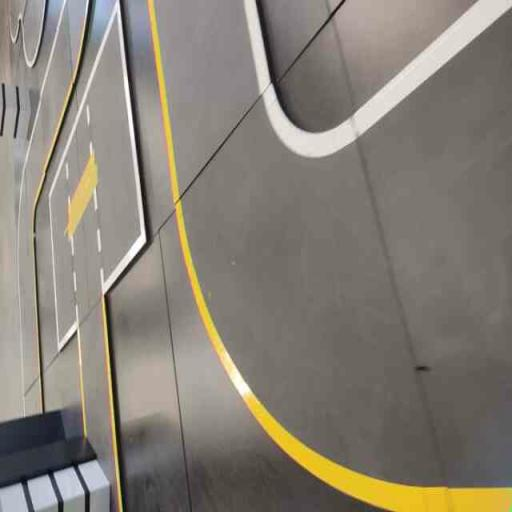right: (159, 12, 452, 511)
